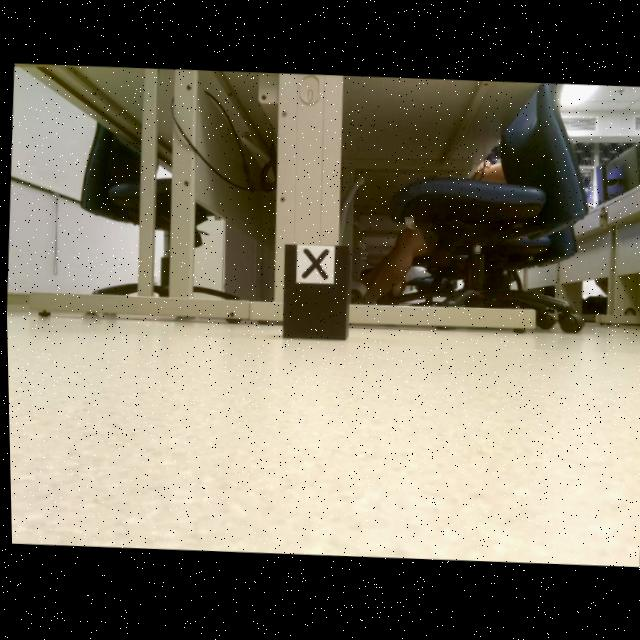X: (300, 249, 328, 281)
